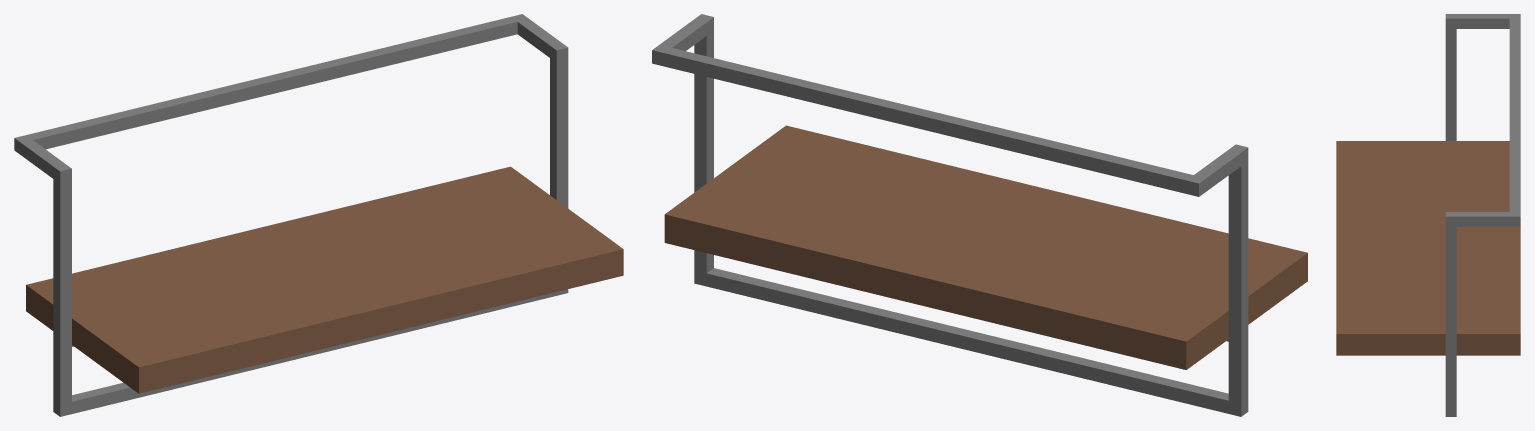
The model's file is wandschap.fbx.
3 views of the same model, side by side, from view 1: azimuth 30°, elevation 25°; view 2: azimuth 150°, elevation 25°; view 3: azimuth 270°, elevation 25° (orthographic). The views are drawn at different scales.
Parts seen in each view (by area): view 1: Frame; view 2: Frame; view 3: Frame.
Part boxes in pixels (bbox=[...]): Frame: bbox=[14, 14, 623, 416]; Frame: bbox=[652, 14, 1307, 416]; Frame: bbox=[1336, 14, 1520, 416].
Bounding box in the file's own units: 65 × 30 × 25.
